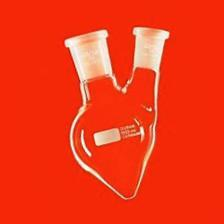Pear shaped flask: (46, 27, 166, 203)
